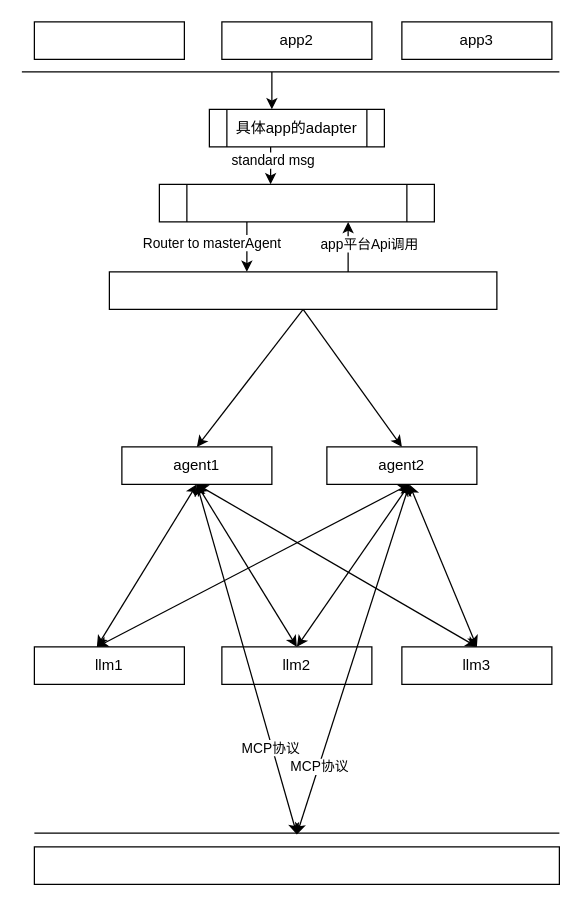
Image size: 583x906. Some labels were removed from this diagram. Here are the shapes that lost their labels. From the top down, the box of each, then its label:
(33, 21, 184, 59): app1
(158, 183, 434, 222): gateway
(108, 271, 497, 309): openClaw(Master Agent & 业务中台)
(33, 846, 559, 884): localResource(MCP Server)
